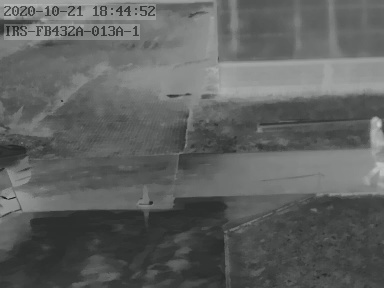person: (363, 115, 384, 186)
